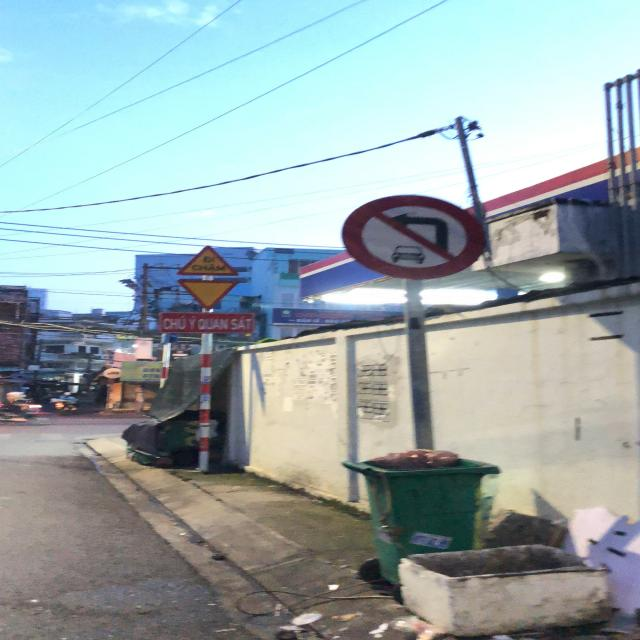Bien bao cam xe o to re trai: (336, 194, 494, 281)
Bien bao di cham: (175, 242, 249, 278)
Bien bao giao nhau voi duong uu tien: (174, 276, 252, 310)
